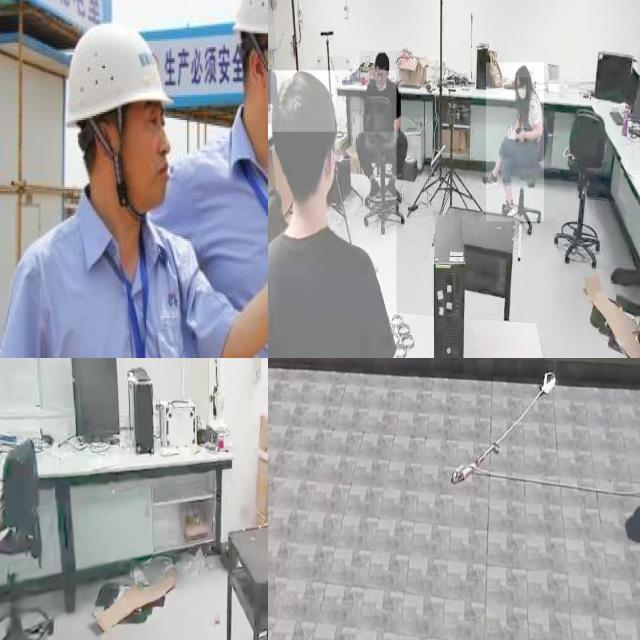Harness: (452, 373, 555, 484)
No_Ear-Protection: (71, 41, 168, 221), (240, 0, 268, 149)
face_mask: (516, 78, 528, 100)
face_nomask: (374, 70, 387, 88)
hand_noglove: (515, 128, 527, 142)
head_nohelmet: (270, 70, 336, 132), (374, 51, 389, 69), (514, 64, 532, 78)
person: (268, 70, 396, 358), (486, 62, 544, 222), (359, 50, 402, 132)
shoes: (384, 172, 402, 205), (365, 177, 381, 204), (480, 169, 500, 189)
